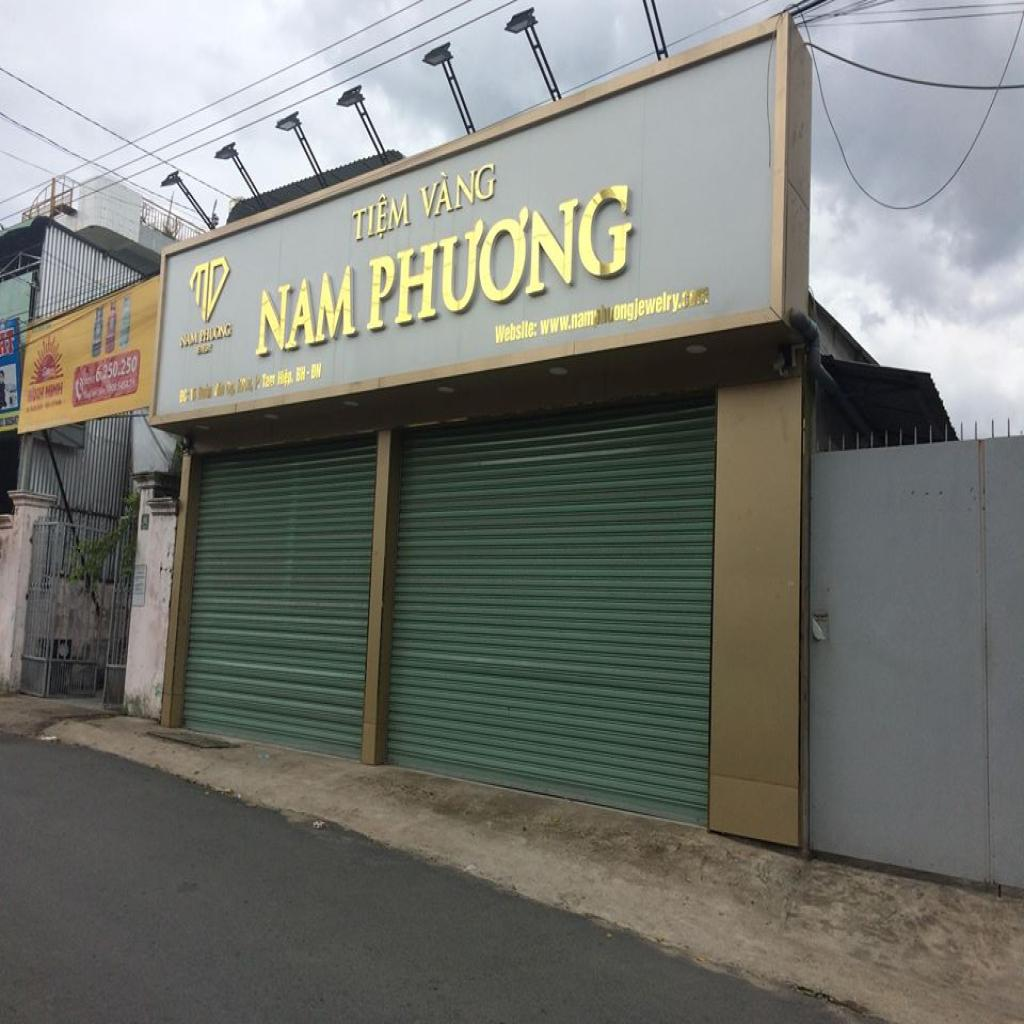text: (362, 175, 636, 333), (252, 262, 362, 360), (540, 283, 711, 340), (414, 155, 498, 223), (351, 186, 413, 246), (494, 317, 539, 347), (95, 356, 138, 382), (200, 322, 232, 344), (178, 330, 199, 348), (46, 380, 64, 400), (5, 328, 16, 356)
